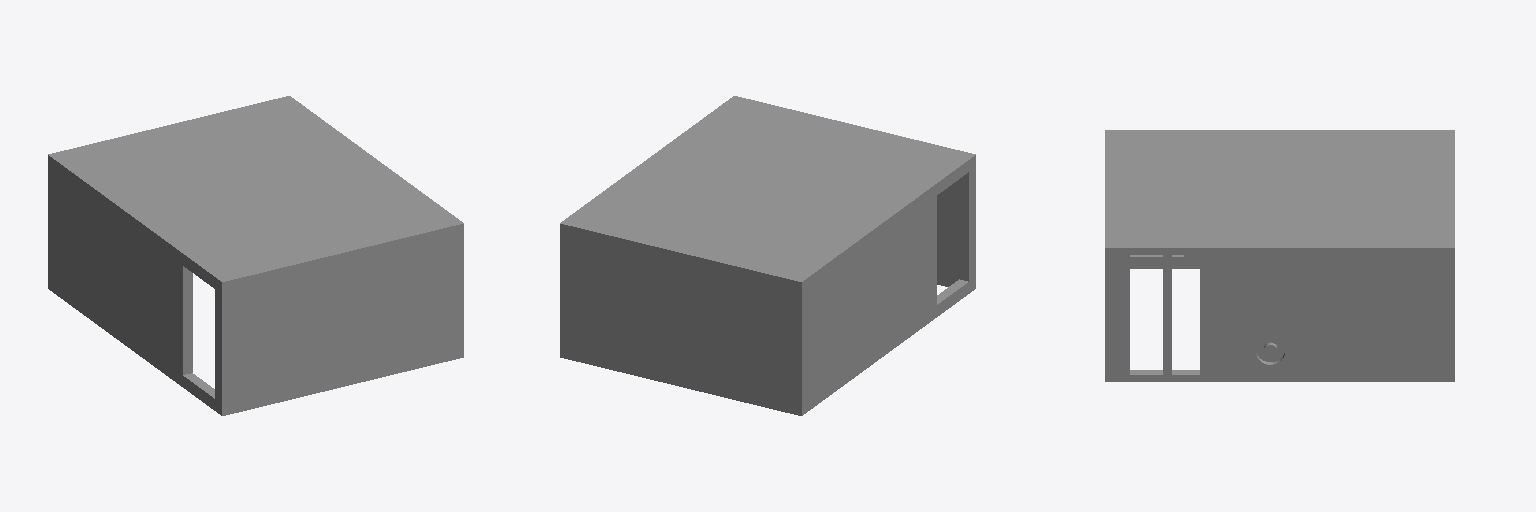
File: pcCase_old.obj
3 views of the same model, side by side, from view 1: azimuth 30°, elevation 25°; view 2: azimuth 150°, elevation 25°; view 3: azimuth 270°, elevation 25° (orthographic).
Parts seen in each view (by area): view 1: PC_case; view 2: PC_case; view 3: PC_case.
Boxes of the visible parts, x1,y1,x2,y2 form: PC_case: [48, 96, 463, 415]; PC_case: [560, 96, 975, 415]; PC_case: [1105, 130, 1454, 381].
Bounding box in the file's own units: 53.17 × 28.15 × 66.46.